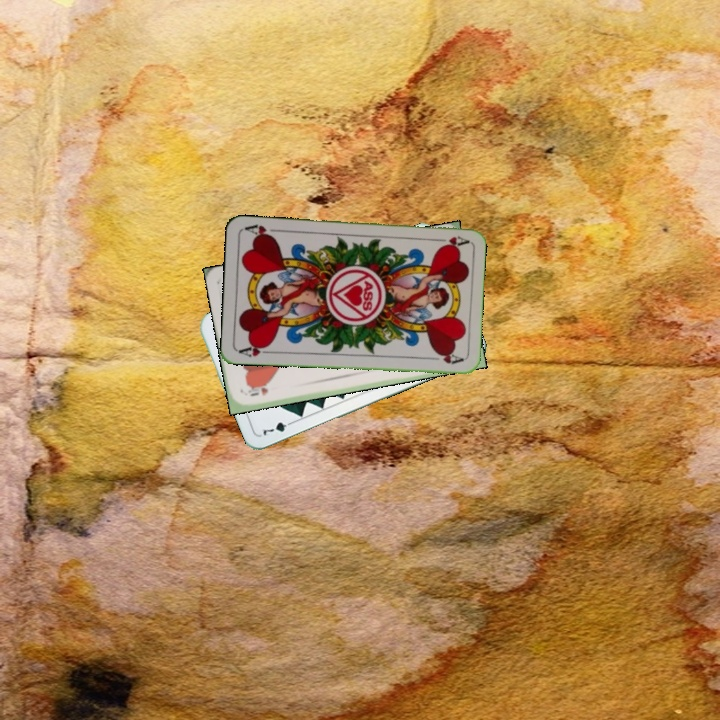G7: (258, 417, 297, 439)
HA: (235, 340, 276, 359), (429, 232, 470, 249)
HO: (244, 383, 271, 399)
